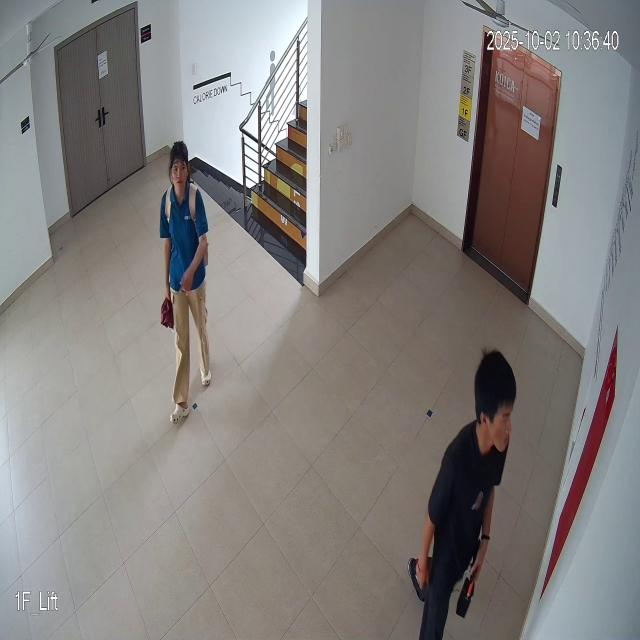face: (166, 137, 189, 196)
